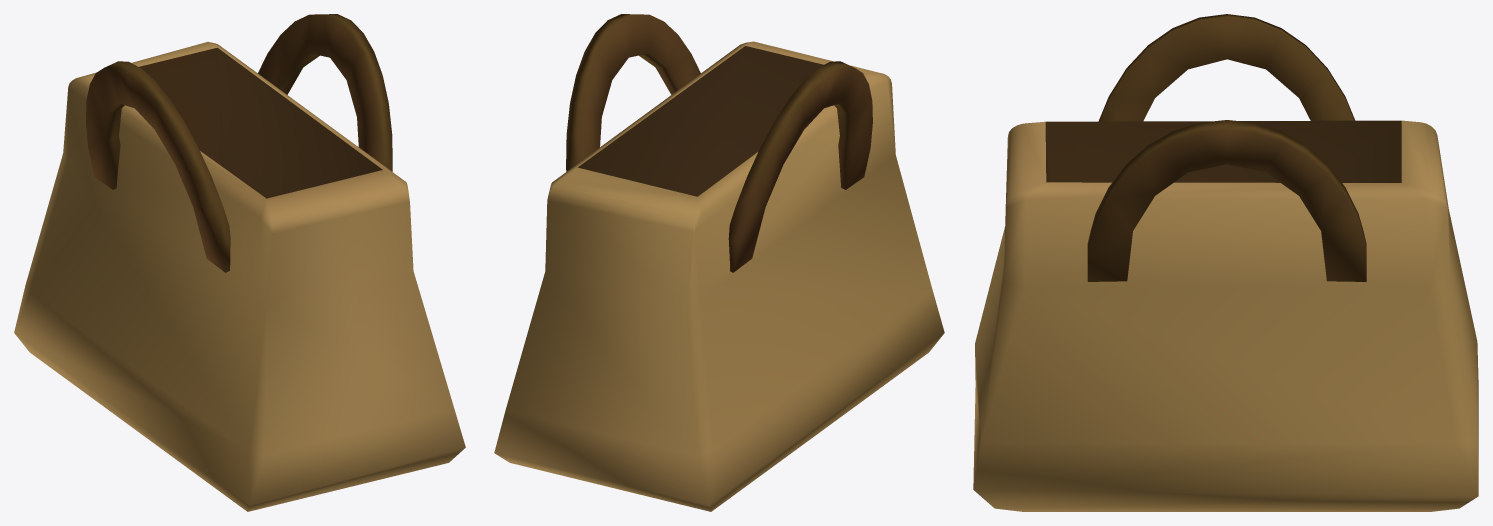
The model's file is BeachBag.glb.
3 renders of one model, left to right at view 1: azimuth 30°, elevation 25°; view 2: azimuth 150°, elevation 25°; view 3: azimuth 270°, elevation 25°, orthographic. The views are drawn at different scales.
Visible parts, largest first — view 1: BeachBag; view 2: BeachBag; view 3: BeachBag.
Boxes of the visible parts, x1,y1,x2,y2 form: BeachBag: [14, 14, 465, 511]; BeachBag: [494, 14, 944, 511]; BeachBag: [973, 14, 1478, 511].
Size of the model in its own units: 0.279 by 0.4466 by 0.5117.
Materials: 1 (1 with a texture image).
